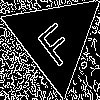F: (29, 13, 79, 69)
